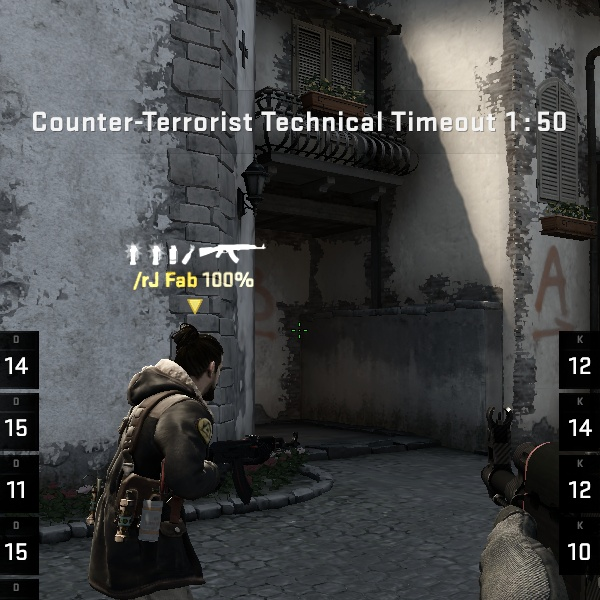ct_body: (96, 320, 277, 586)
ct_head: (155, 319, 236, 401)
